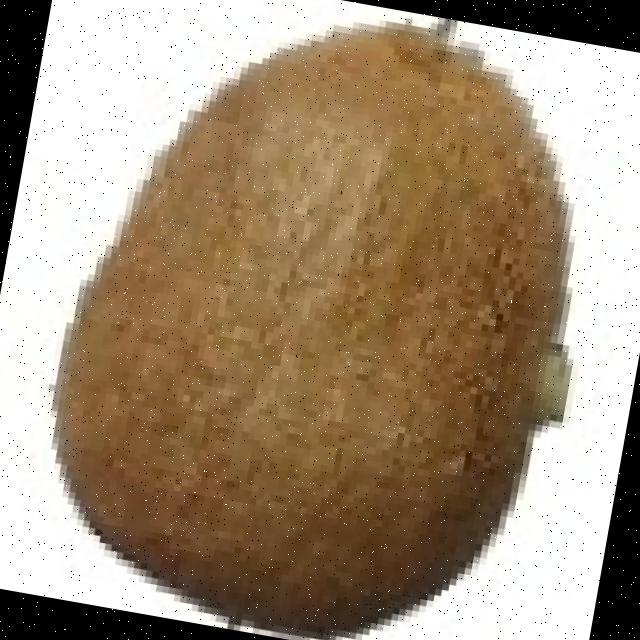kiwi: (48, 18, 555, 623)
